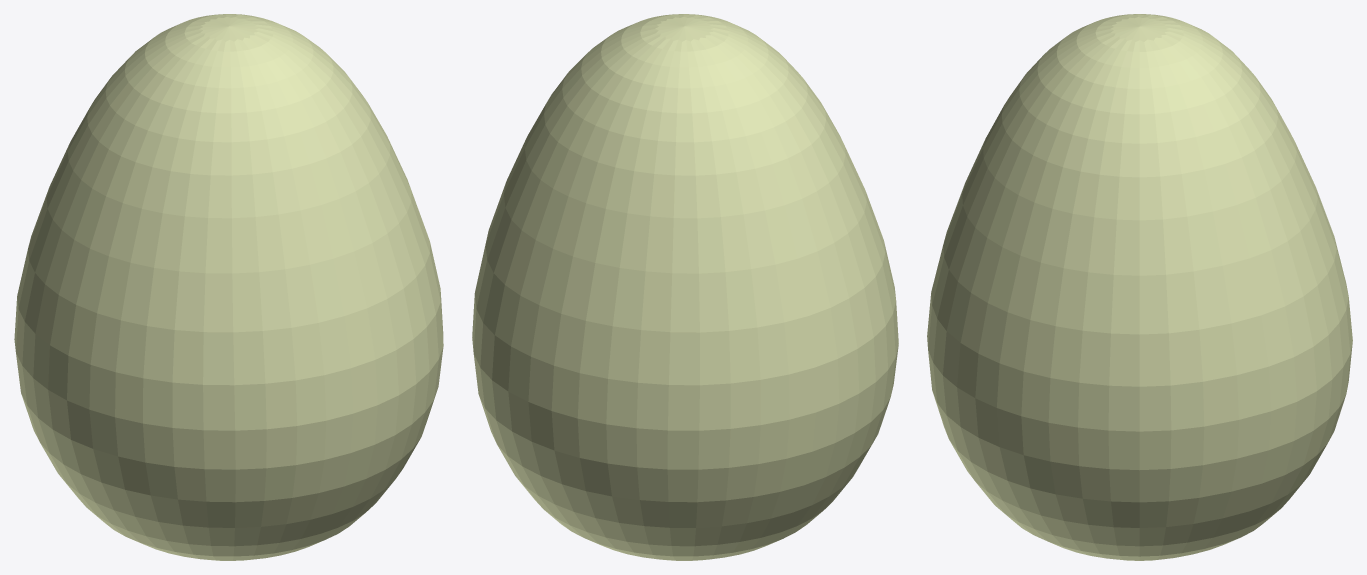
Rendered from GoldenEgg.fbx.
3 views of the same model, side by side, from view 1: azimuth 30°, elevation 25°; view 2: azimuth 150°, elevation 25°; view 3: azimuth 270°, elevation 25° (orthographic).
Visible parts, largest first — view 1: Sphere; view 2: Sphere; view 3: Sphere.
Boxes of the visible parts, bbox=[...] form: Sphere: bbox=[14, 14, 443, 560]; Sphere: bbox=[472, 14, 898, 560]; Sphere: bbox=[927, 14, 1352, 560].
Bounding box in the file's own units: 192 × 257 × 194.
